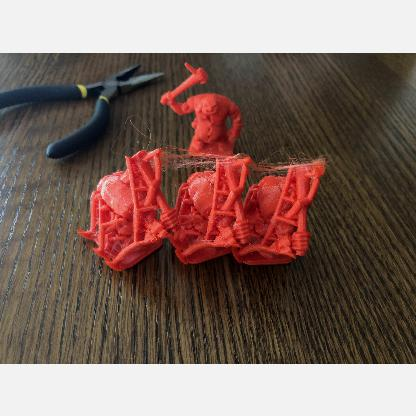fail: (159, 140, 215, 168), (250, 154, 288, 173), (290, 149, 314, 161)
